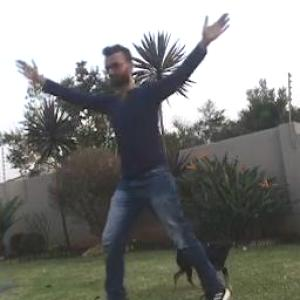takeoff: (47, 39, 242, 284)
